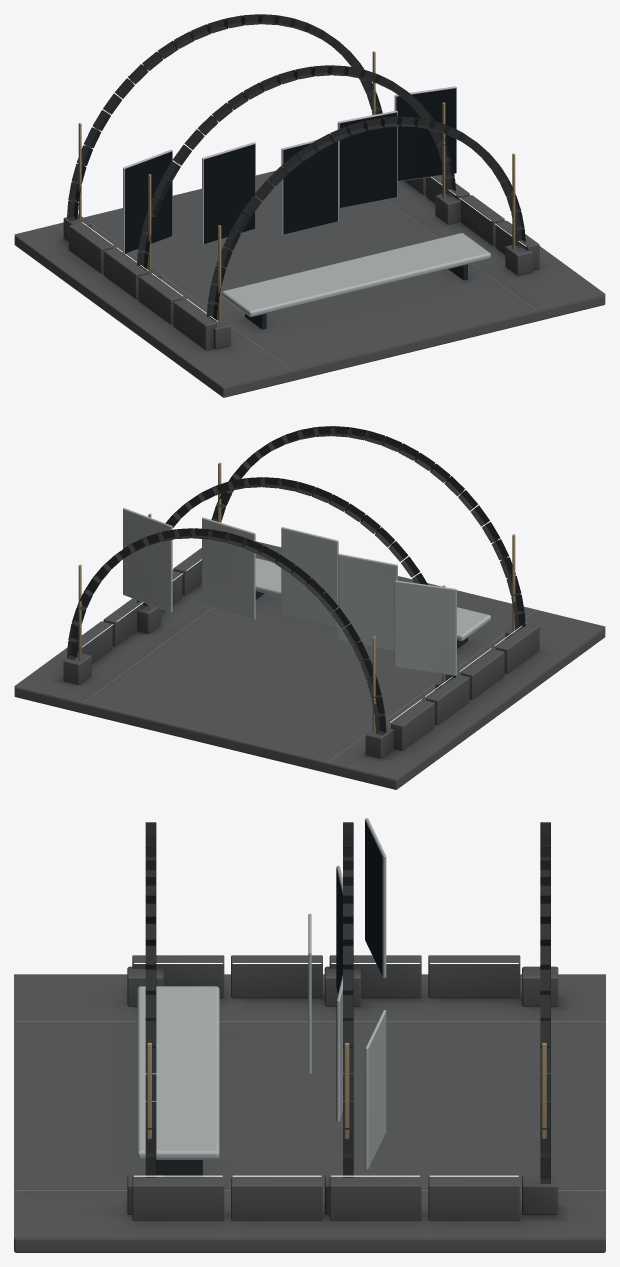
File: 08-people.glb
3 views of the same model, one above another, from view 1: azimuth 30°, elevation 25°; view 2: azimuth 150°, elevation 25°; view 3: azimuth 270°, elevation 25° (orthographic). The views are drawn at different scales.
Parts seen in each view (by area): view 1: Baked contact floor.008, Follow-up table, Architectural floor.008, PERSON_3 inner, PERSON_2 inner, PERSON_1 inner, PERSON_4 inner, PERSON_0 inner, Wall base.040, Wall base.042, Wall base.043, Wall base.041 (+5 smaller); view 2: Baked contact floor.008, Architectural floor.008, PERSON_0 backing, PERSON_1 backing, PERSON_2 backing, PERSON_3 backing, PERSON_4 backing, Follow-up table, Wall base.043, Wall base.040, Wall base.041, Wall base.042 (+6 smaller); view 3: Baked contact floor.008, Follow-up table, Architectural floor.008, Wall base.044, Wall base.047, Wall base.046, Wall base.045, Wall base.043, Wall base.041, PERSON_4 backing, Wall base.042, Wall base.040 (+10 smaller).
Part boxes in pixels (<box>): Baked contact floor.008: <box>14,170,605,387</box>; Follow-up table: <box>222,233,490,316</box>; Architectural floor.008: <box>14,235,605,397</box>; PERSON_3 inner: <box>339,112,397,207</box>; PERSON_2 inner: <box>283,141,337,234</box>; PERSON_1 inner: <box>204,144,255,243</box>; PERSON_4 inner: <box>396,88,455,180</box>; PERSON_0 inner: <box>125,151,172,253</box>; Wall base.040: <box>173,299,217,350</box>; Wall base.042: <box>103,248,147,299</box>; Wall base.043: <box>68,223,112,273</box>; Wall base.041: <box>138,274,182,324</box>; Baked contact floor.008: <box>14,541,605,779</box>; Architectural floor.008: <box>14,627,605,789</box>; PERSON_0 backing: <box>394,580,456,675</box>; PERSON_1 backing: <box>337,553,397,651</box>; PERSON_2 backing: <box>281,527,338,627</box>; PERSON_3 backing: <box>202,517,255,620</box>; PERSON_4 backing: <box>123,508,172,612</box>; Follow-up table: <box>255,558,490,641</box>; Wall base.043: <box>391,700,434,750</box>; Wall base.040: <box>495,623,539,674</box>; Wall base.041: <box>460,649,504,699</box>; Wall base.042: <box>426,674,469,725</box>; Baked contact floor.008: <box>14,974,605,1238</box>; Follow-up table: <box>137,986,219,1159</box>; Architectural floor.008: <box>14,1238,605,1252</box>; Wall base.044: <box>132,1177,224,1220</box>; Wall base.047: <box>428,1177,520,1220</box>; Wall base.046: <box>329,1177,421,1220</box>; Wall base.045: <box>231,1177,322,1220</box>; Wall base.043: <box>428,955,520,998</box>; Wall base.041: <box>231,955,322,998</box>; PERSON_4 backing: <box>365,1010,386,1169</box>; Wall base.042: <box>329,955,421,998</box>; Wall base.040: <box>132,955,224,998</box>.
Size of the model in its own units: 38 by 18.45 by 36.
